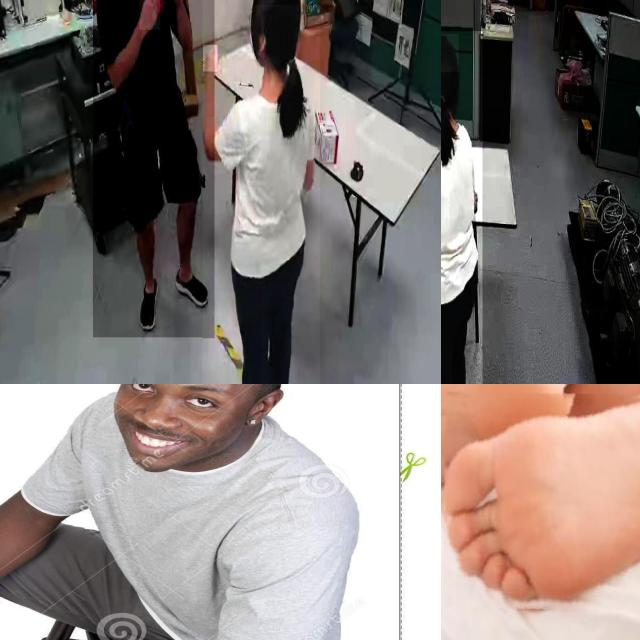Barefoots: (441, 384, 640, 636), (441, 384, 581, 519)
No_Ear-Protection: (230, 384, 292, 434)
No_Glasses: (110, 384, 236, 425)
hand_noglove: (139, 0, 160, 30), (203, 45, 218, 72)
head_nohelmet: (441, 34, 458, 73)
person: (202, 0, 320, 384), (93, 0, 214, 338), (441, 31, 483, 384)
shoes: (170, 259, 210, 313), (135, 274, 163, 336)
